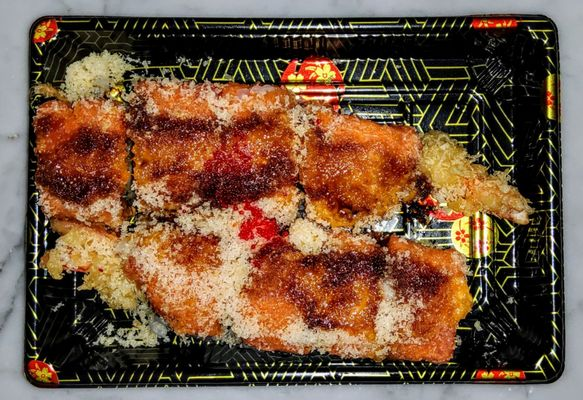sushi: (23, 50, 497, 363)
